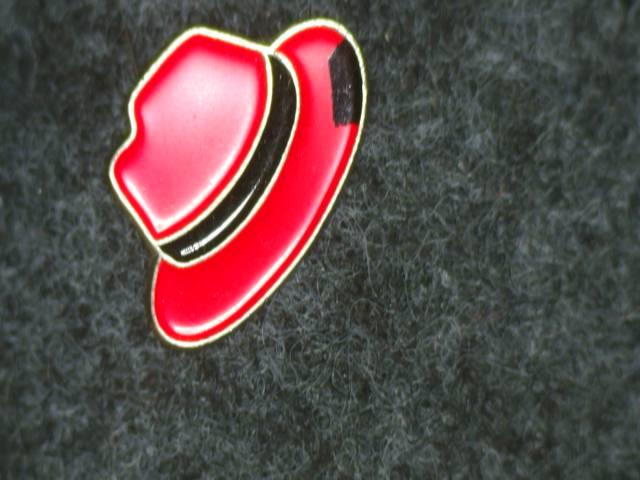Red-Hat: (88, 0, 410, 390)
Scratch: (309, 15, 394, 137)
